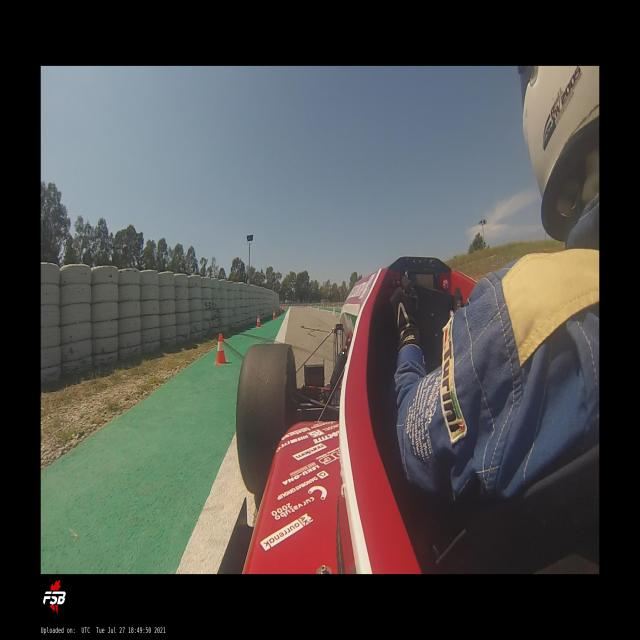orange_cone: (214, 333, 230, 365), (256, 314, 262, 328), (272, 310, 276, 320)
